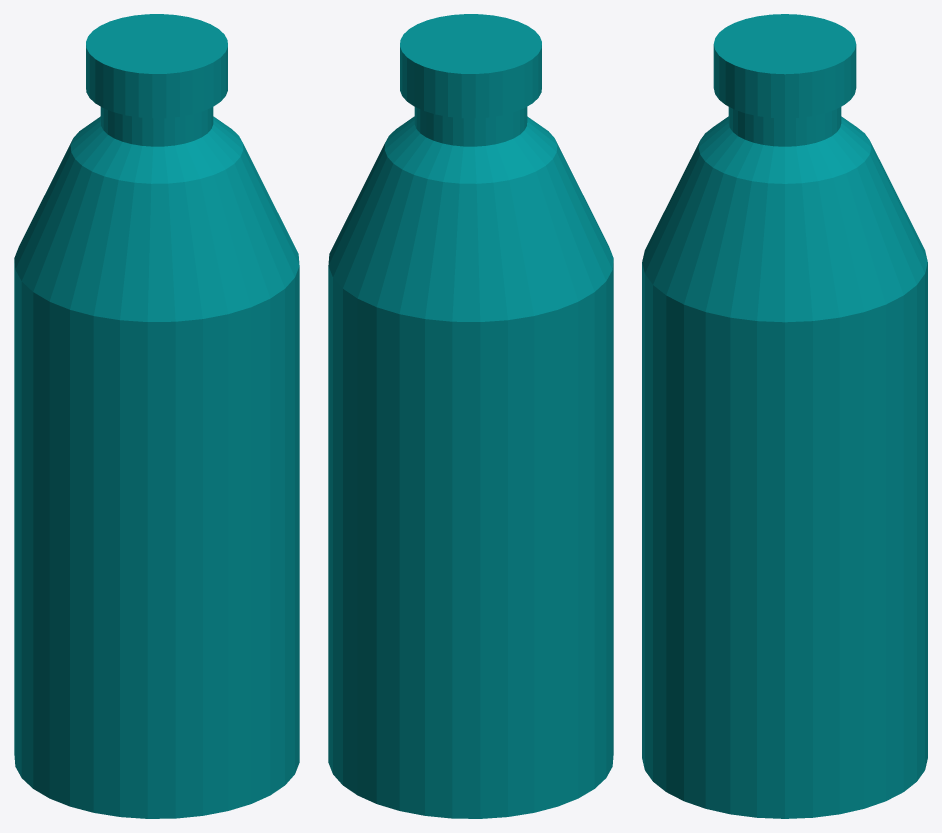
File: botella.fbx
The picture shows the model from 3 angles, left to right: view 1: azimuth 30°, elevation 25°; view 2: azimuth 150°, elevation 25°; view 3: azimuth 270°, elevation 25°; orthographic projection.
Visible parts, largest first — view 1: Cylinder; view 2: Cylinder; view 3: Cylinder.
Part boxes in pixels (left/top/right/bottom): Cylinder: left=14, top=14, right=299, bottom=818; Cylinder: left=328, top=14, right=613, bottom=818; Cylinder: left=642, top=14, right=927, bottom=818.
Size of the model in its own units: 200 by 552 by 200.
